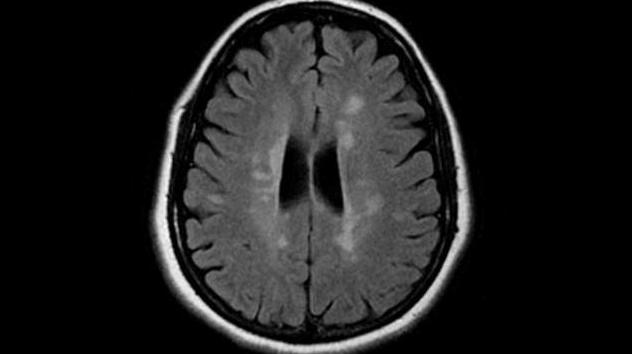Normal_Brain: (121, 1, 518, 354)
